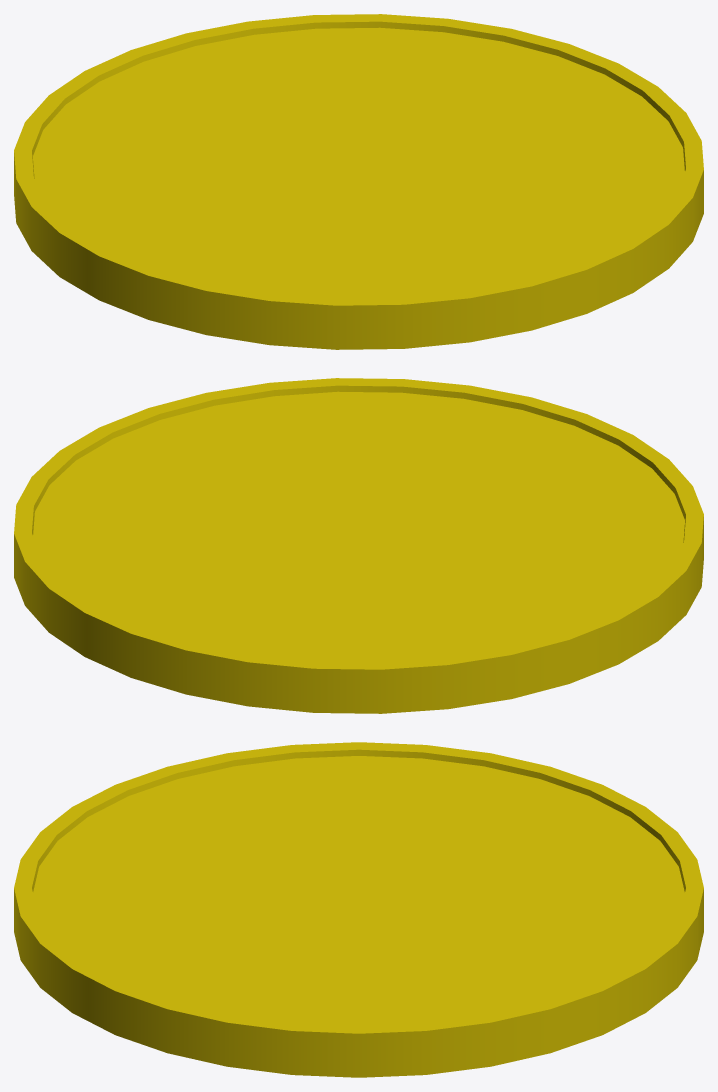
Rendered from Single_Coin1.fbx.
3 renders of one model, top to bottom at view 1: azimuth 30°, elevation 25°; view 2: azimuth 150°, elevation 25°; view 3: azimuth 270°, elevation 25°, orthographic.
Visible parts, largest first — view 1: Circle; view 2: Circle; view 3: Circle.
Boxes of the visible parts, x1,y1,x2,y2 form: Circle: (14, 14, 703, 349); Circle: (14, 378, 703, 713); Circle: (14, 742, 703, 1077).
Bounding box in the file's own units: 18.39 × 1.3 × 18.39.
